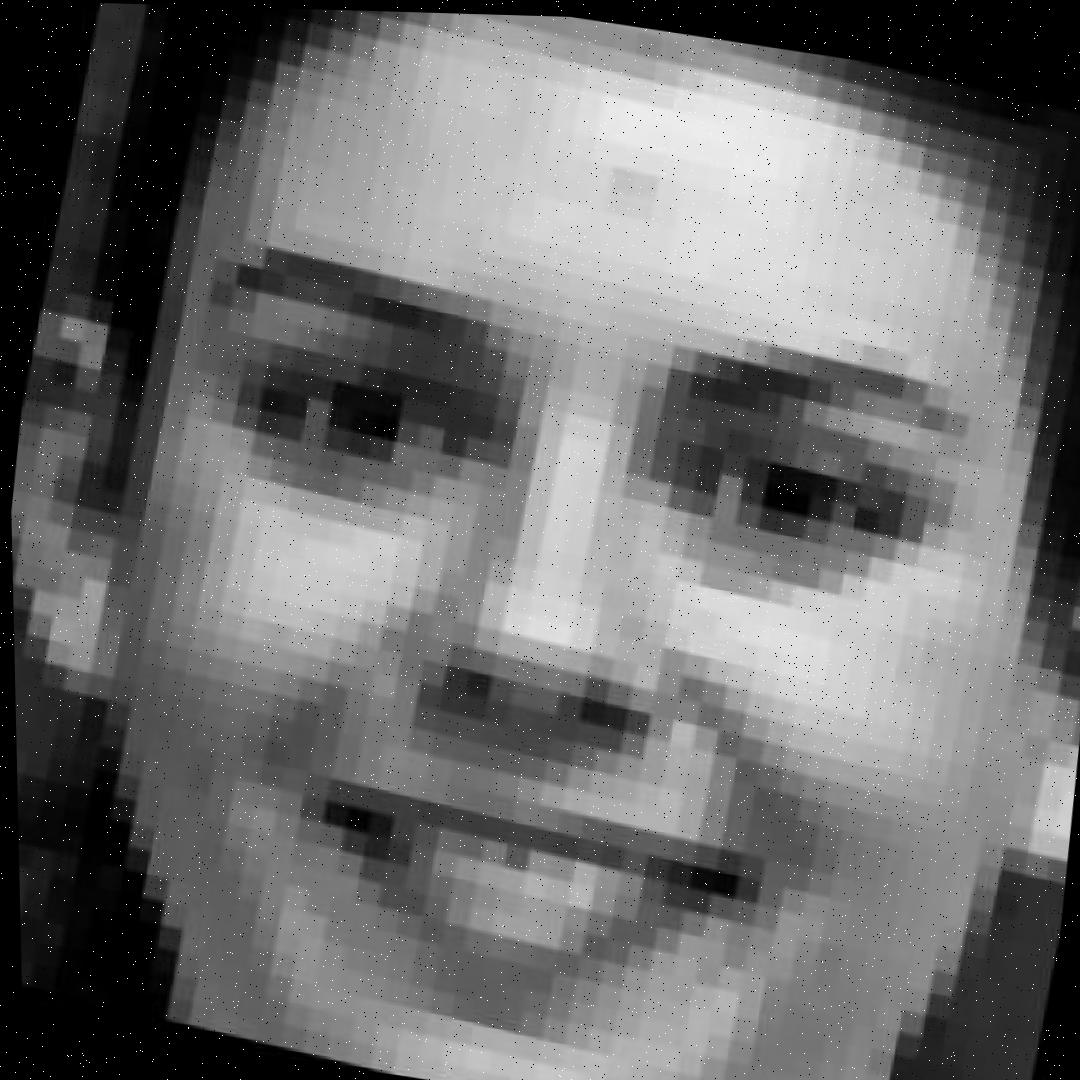happy: (0, 0, 1080, 1047)
